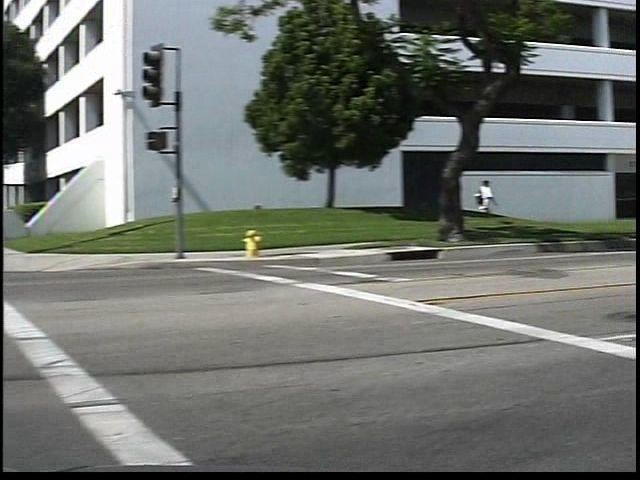person: (489, 173, 512, 234)
